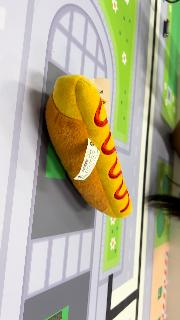hotdog: (45, 74, 133, 220)
